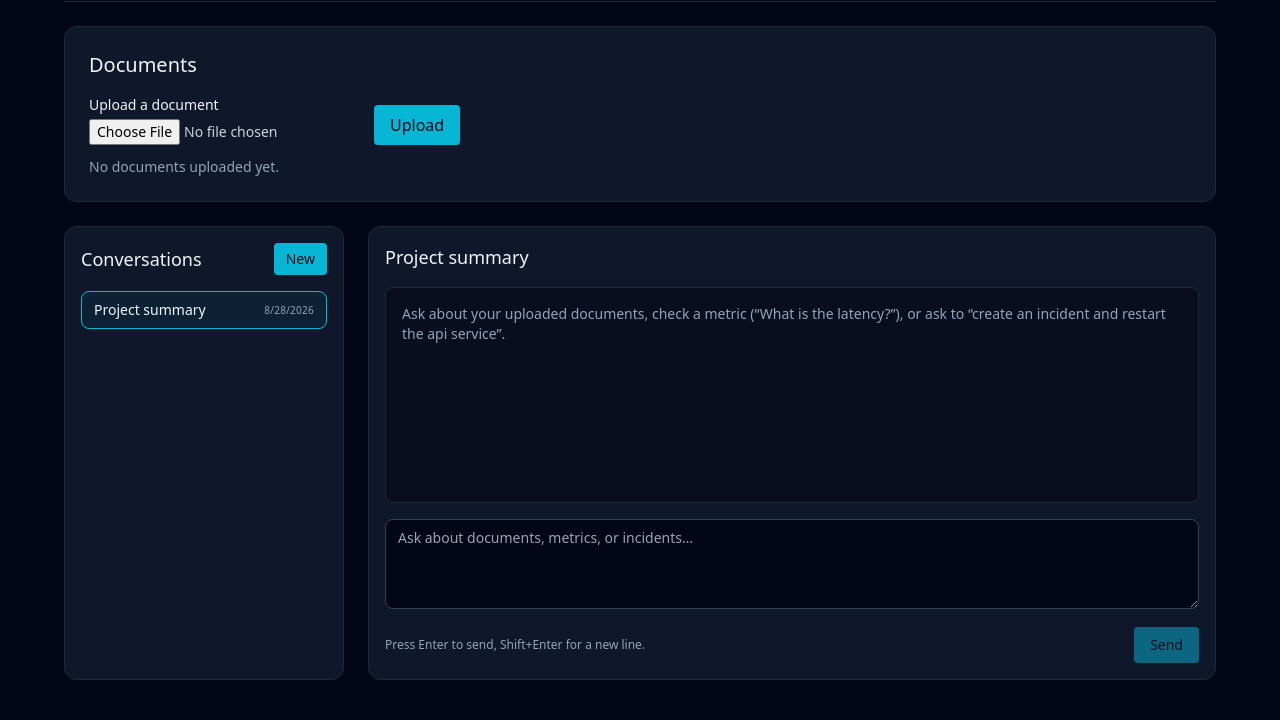
Test: HomePage › renders unique page-level citations from repeated SSE events
(page scrolled)
Expected: the heading "Project summary" is shown, [385,245,529,269]
Type "What did the documents say?" into the text box named "Chat message".
click(792, 564); type("What did the documents say?")  # box [385,519,1199,609]
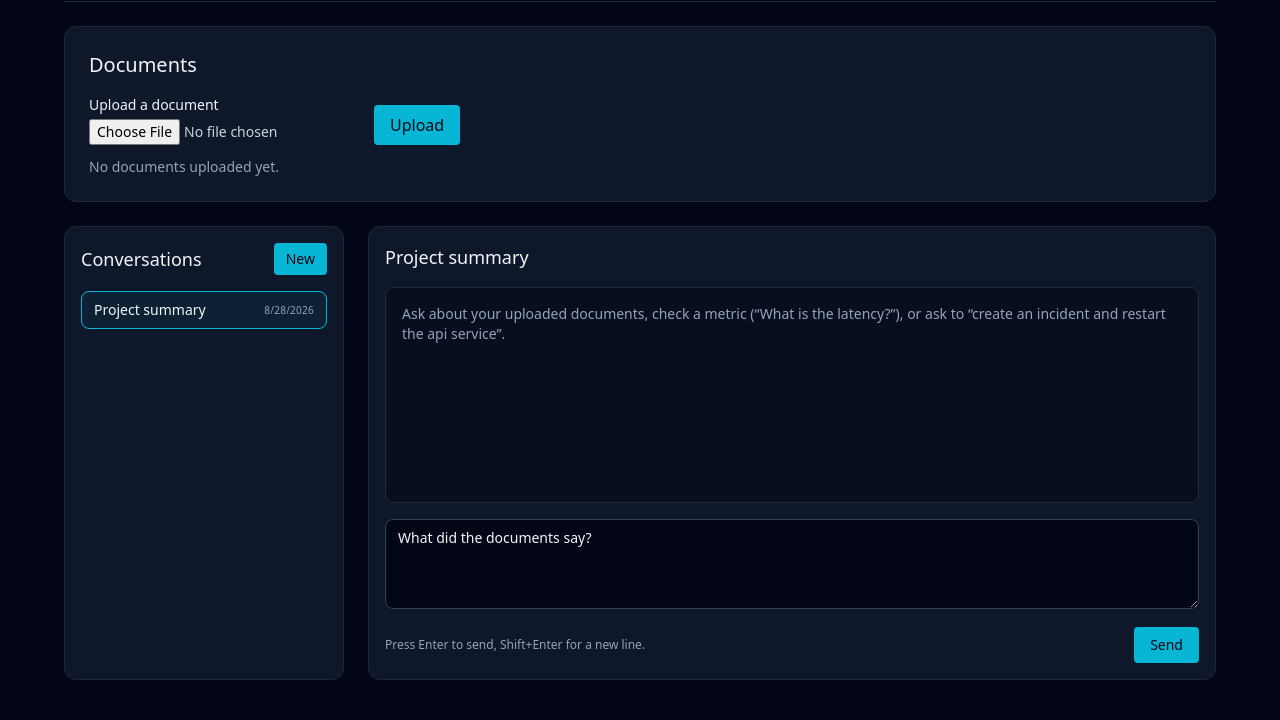
Click the button "Send".
click(1167, 645)  # box [1134,627,1199,663]
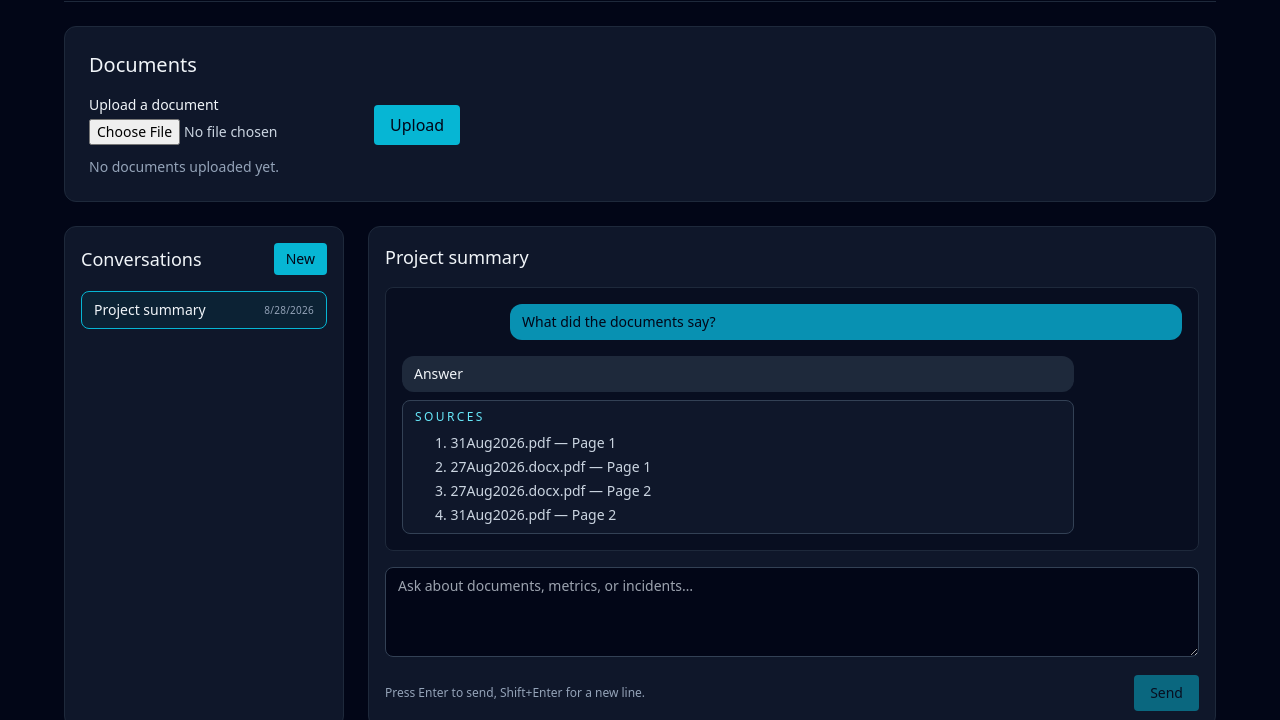
Now the text "Answer" is shown, box [414,364,467,383]
